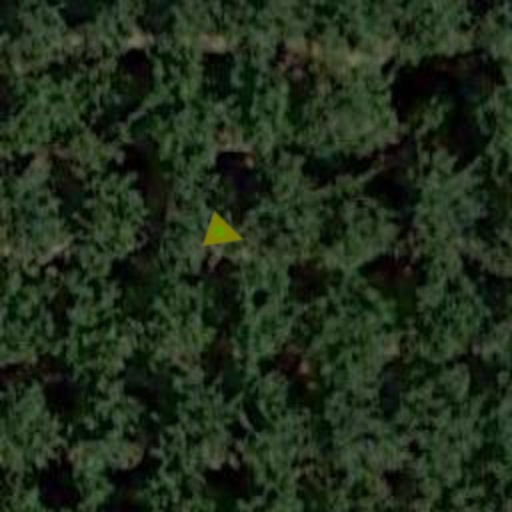triangle: (202, 210, 250, 258)
